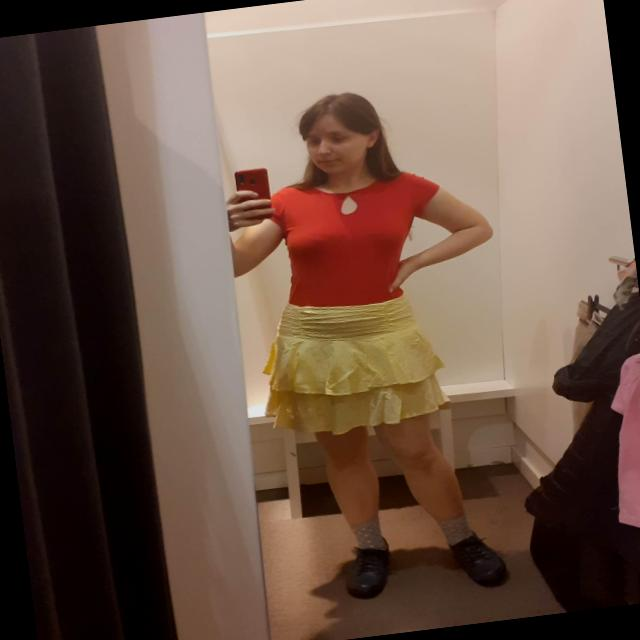Tshirt: (249, 164, 452, 316)
skirt: (249, 286, 452, 444)
